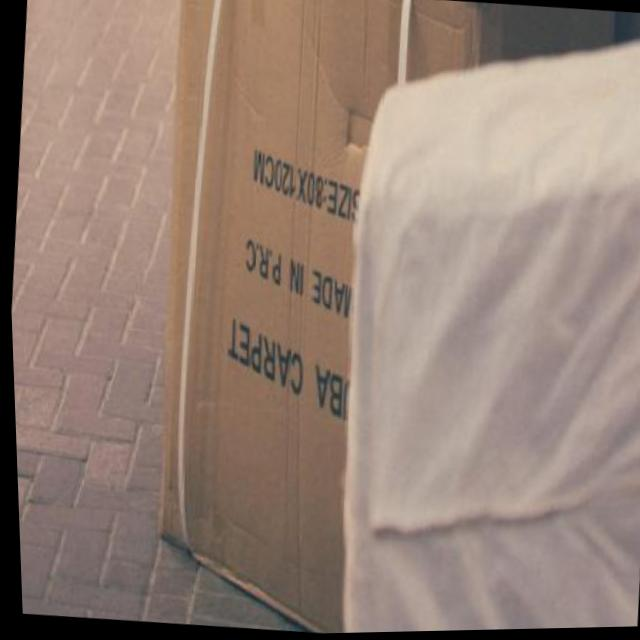box: (120, 0, 518, 638)
